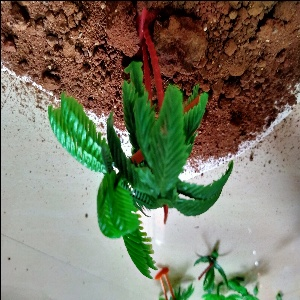plant: (46, 9, 239, 262)
